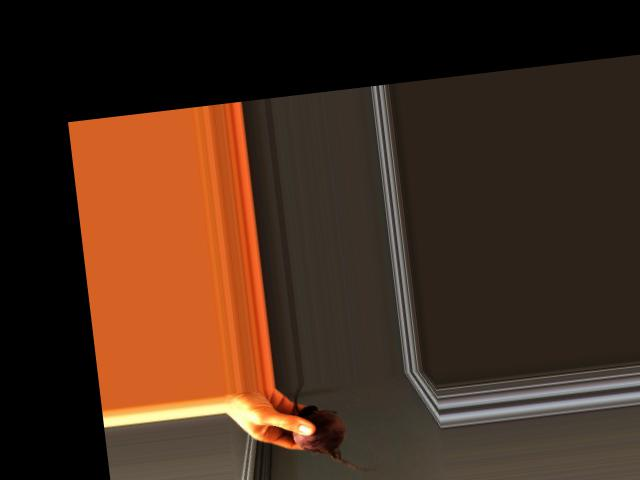beet: (287, 376, 377, 479)
